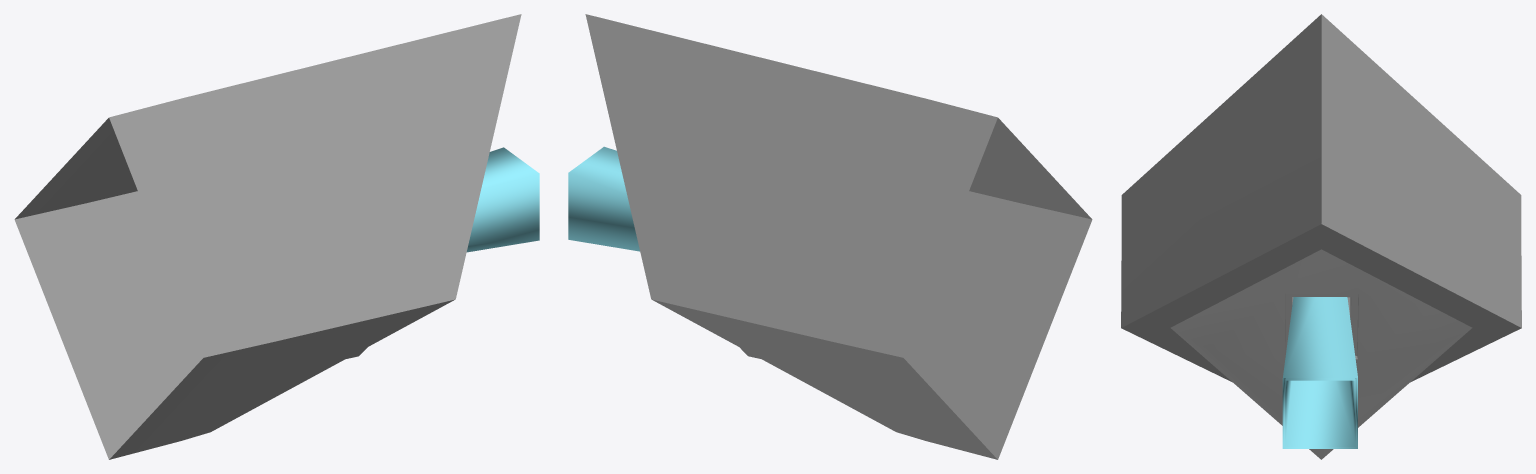
File: SM_LaserSource.FBX
The picture shows the model from 3 angles, left to right: view 1: azimuth 30°, elevation 25°; view 2: azimuth 150°, elevation 25°; view 3: azimuth 270°, elevation 25°; orthographic projection. The views are drawn at different scales.
Visible parts, largest first — view 1: SM_LaserSource; view 2: SM_LaserSource; view 3: SM_LaserSource.
Part boxes in pixels (bbox=[...]): SM_LaserSource: bbox=[14, 14, 539, 459]; SM_LaserSource: bbox=[568, 14, 1092, 459]; SM_LaserSource: bbox=[1121, 14, 1521, 459].
Bounding box in the file's own units: 178 × 143 × 142.
